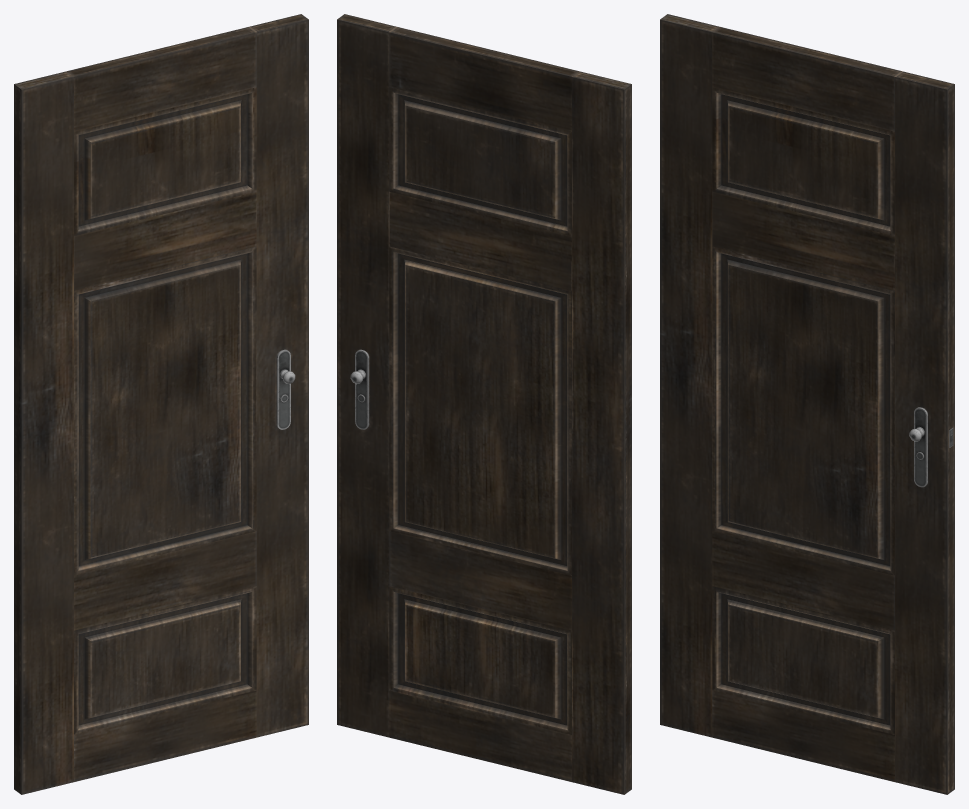
The picture shows the model from 3 angles, left to right: view 1: azimuth 30°, elevation 25°; view 2: azimuth 150°, elevation 25°; view 3: azimuth 330°, elevation 25°; orthographic projection.
Parts seen in each view (by area): view 1: door1; view 2: door1; view 3: door1.
Boxes of the visible parts, x1,y1,x2,y2 form: door1: [14, 14, 308, 794]; door1: [337, 14, 631, 794]; door1: [660, 14, 954, 794].
Size of the model in its own units: 87.23 by 204 by 12.18.
